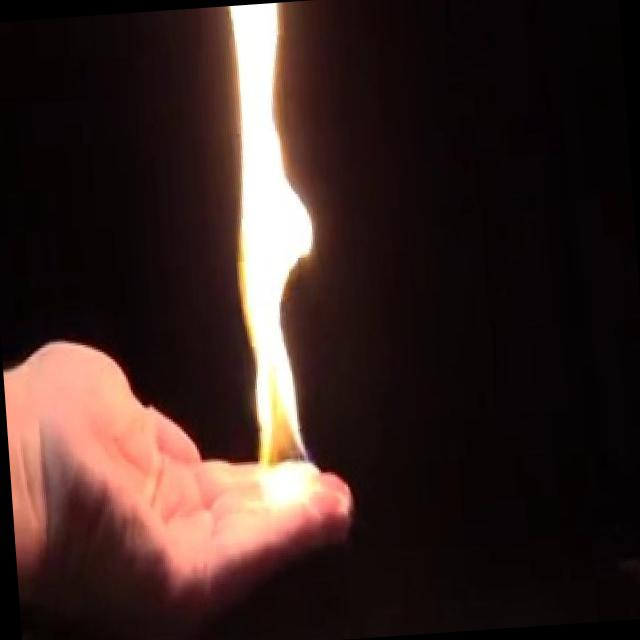Fire: (195, 4, 332, 514)
